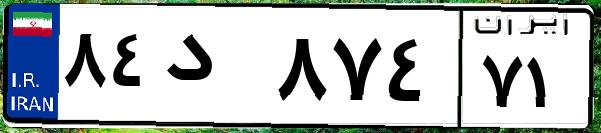1: (525, 38, 570, 115)
4: (385, 28, 445, 110), (110, 28, 158, 98)
7: (330, 28, 385, 110), (475, 38, 525, 113)
8: (270, 28, 330, 110), (57, 26, 110, 100)
د: (158, 20, 270, 120)
